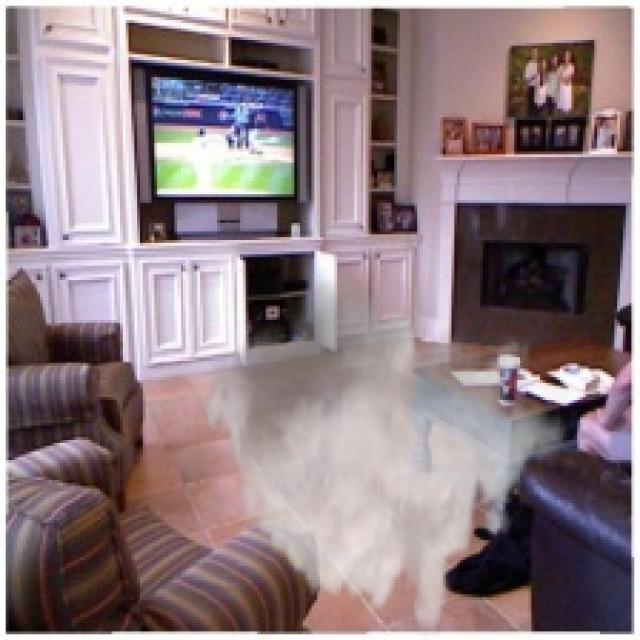smoke: (200, 269, 571, 637)
